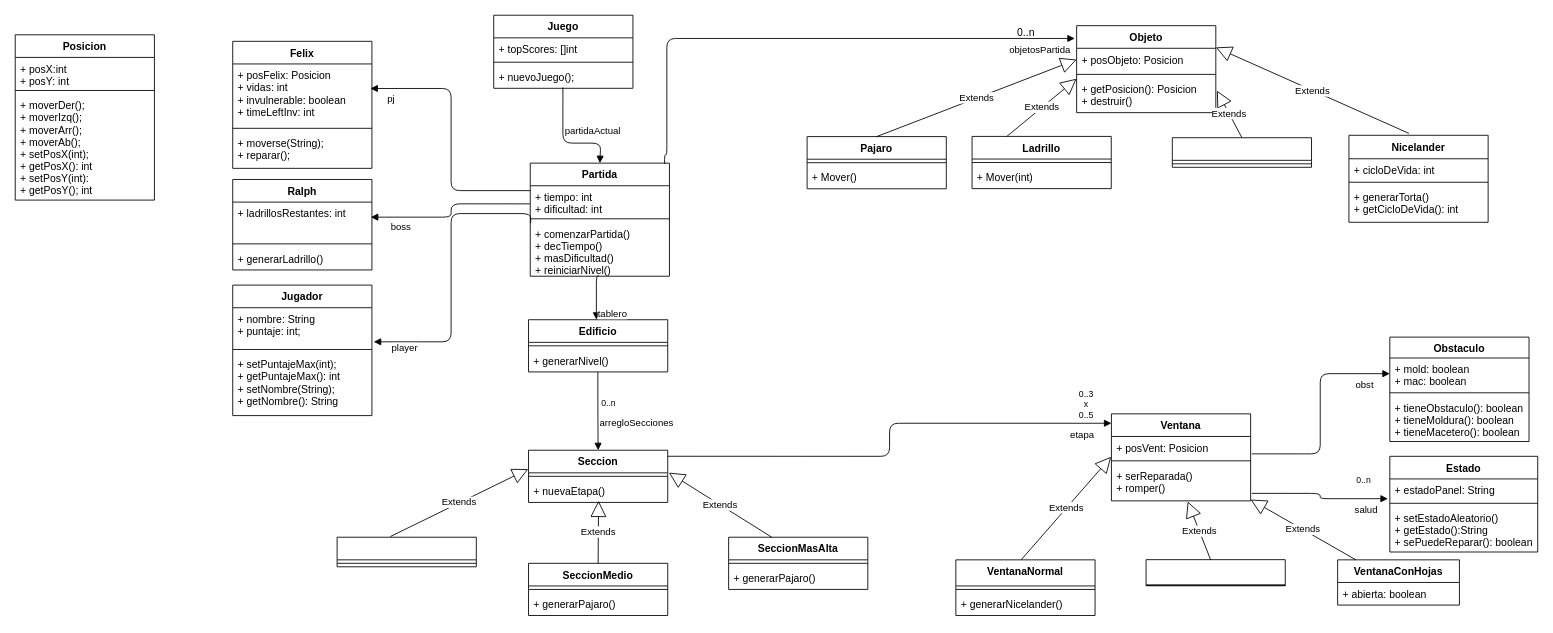
This 1553x633 diagram has some shape labels left out. The centre of each missing label's shape, as x and y in pixels:
"SeccionSuelo" belongs at point (406, 551).
"Torta" belongs at point (1241, 152).
"VentanaSemicircular" belongs at point (1215, 572).
